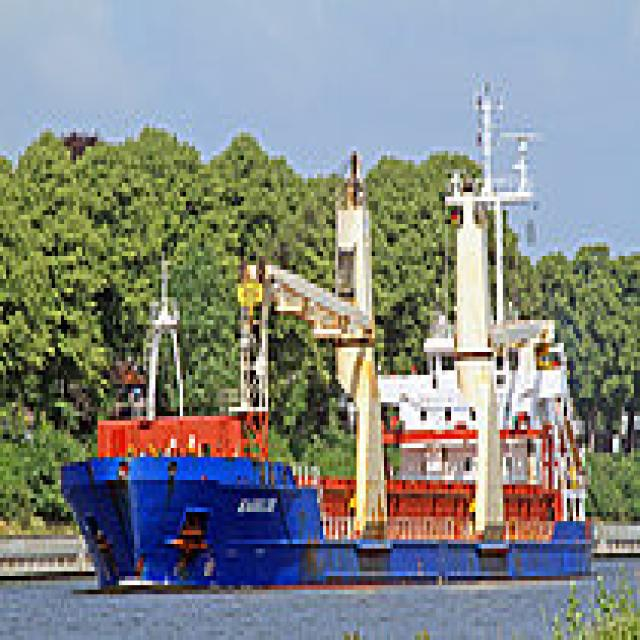Cargo: (55, 68, 597, 590)
